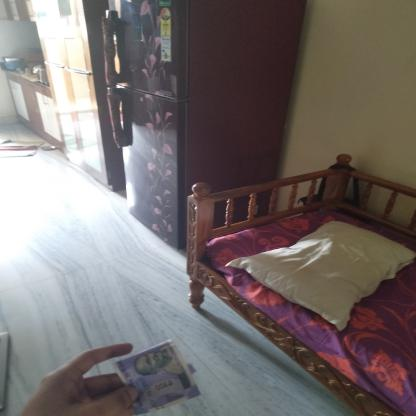New100Front: (117, 340, 191, 406)
